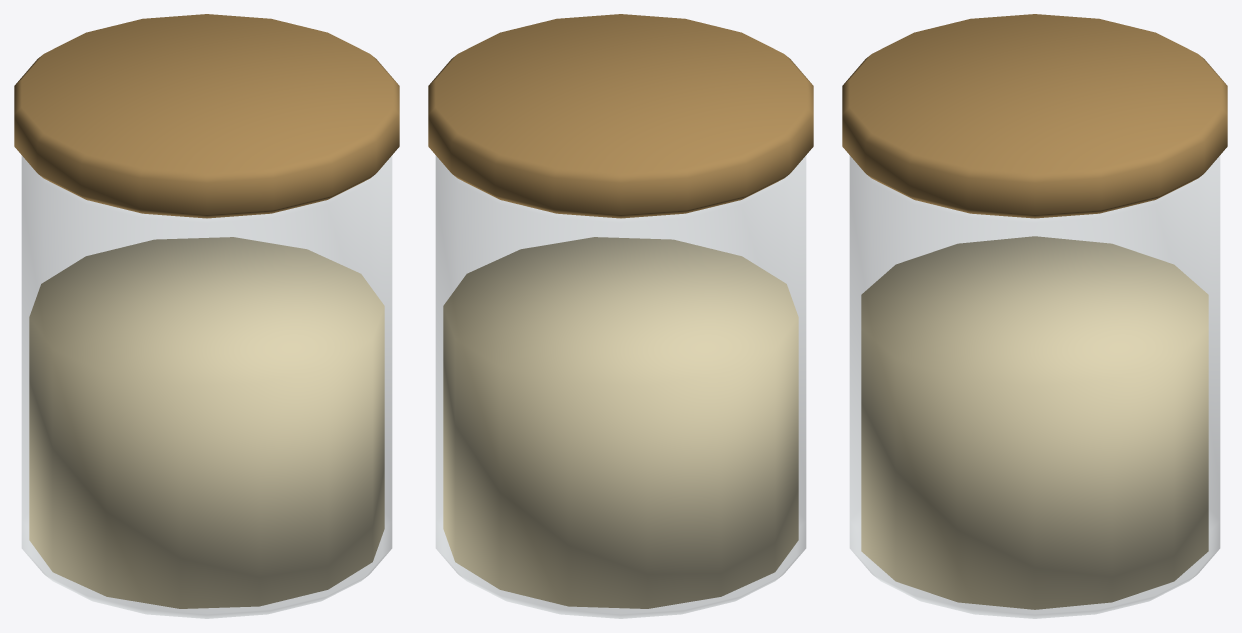
The model's file is i_jars_3.glb.
3 renders of one model, left to right at view 1: azimuth 30°, elevation 25°; view 2: azimuth 150°, elevation 25°; view 3: azimuth 270°, elevation 25°, orthographic.
Visible parts, largest first — view 1: o.001, o, o.002; view 2: o.001, o, o.002; view 3: o.001, o, o.002.
Boxes of the visible parts, left/top/right/bottom form: o.001: left=21, top=156, right=392, bottom=618; o: left=29, top=237, right=384, bottom=608; o.002: left=14, top=14, right=399, bottom=218; o.001: left=435, top=156, right=806, bottom=618; o: left=443, top=237, right=798, bottom=608; o.002: left=428, top=14, right=813, bottom=218; o.001: left=849, top=156, right=1220, bottom=618; o: left=861, top=236, right=1208, bottom=609; o.002: left=842, top=14, right=1227, bottom=218.
Size of the model in its own units: 0.156 by 0.198 by 0.1536.
